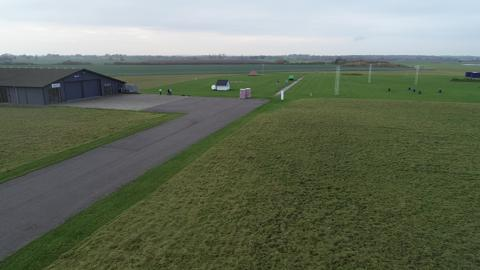RockwoolPallet: (246, 87, 252, 98)
